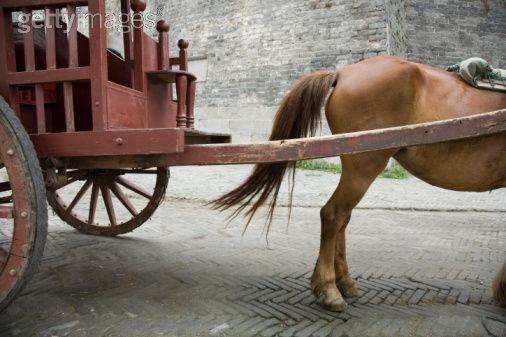horse: (208, 54, 506, 320)
